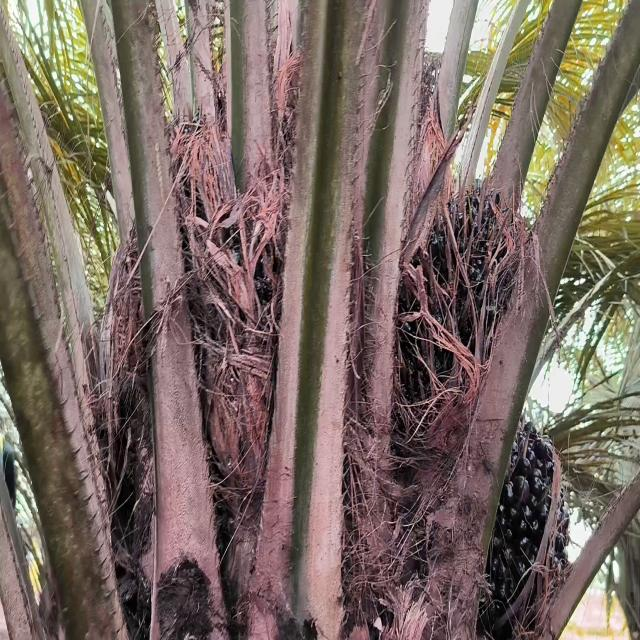palm-oil: (395, 180, 527, 434), (481, 413, 569, 640)
